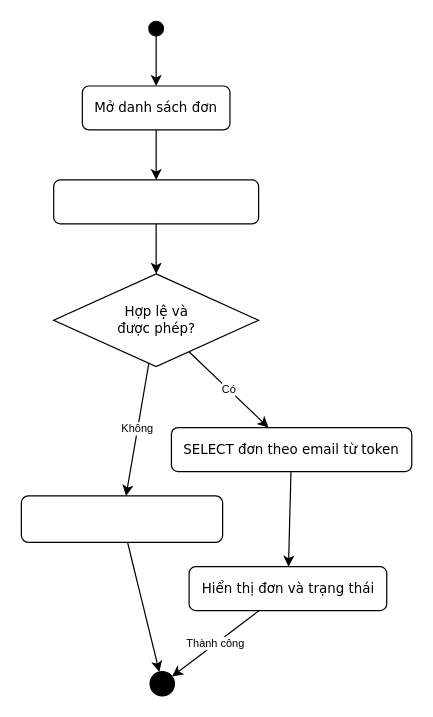
This 433x717 diagram has some shape labels left out. The centre of each missing label's shape, as x and y in pixels:
"Thông báo lỗi Không báo lưu thành công" goes at (x=121, y=518).
"Xác thực tài khoản hiện tại" goes at (x=155, y=201).
